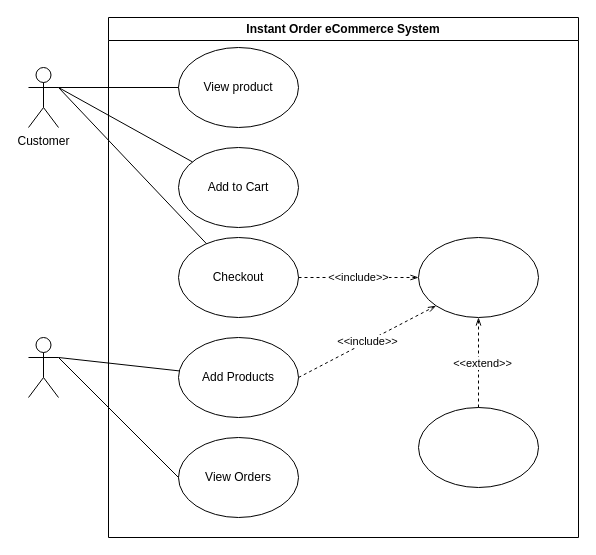
This 596x555 diagram has some shape labels left out. Each missing label, with the centre of its shape:
"Access Denied" belongs at point (478, 447).
"Admin" belongs at point (43, 367).
"Check credentials" belongs at point (478, 277).
